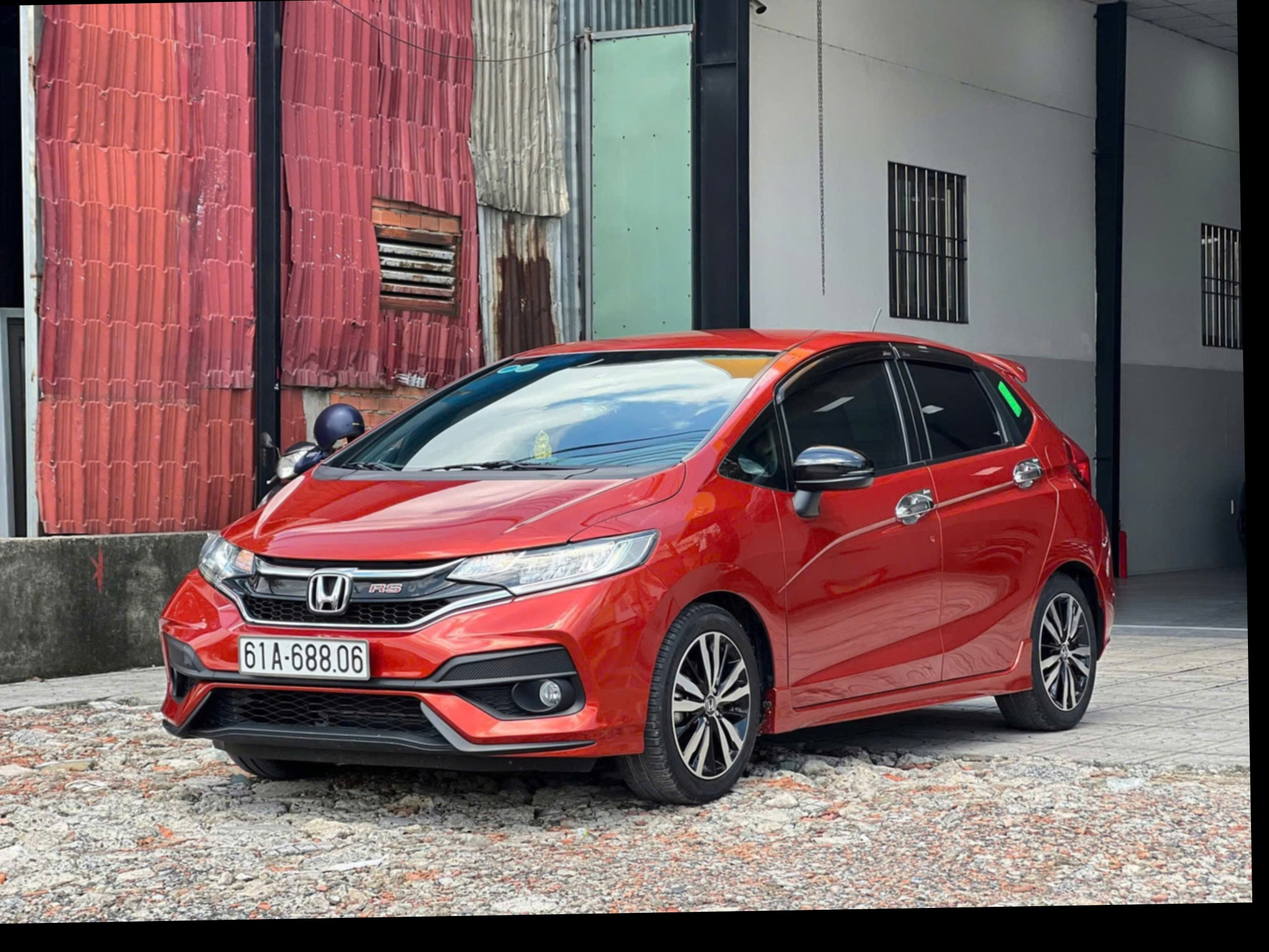Bien-so: (300, 649, 433, 708)
